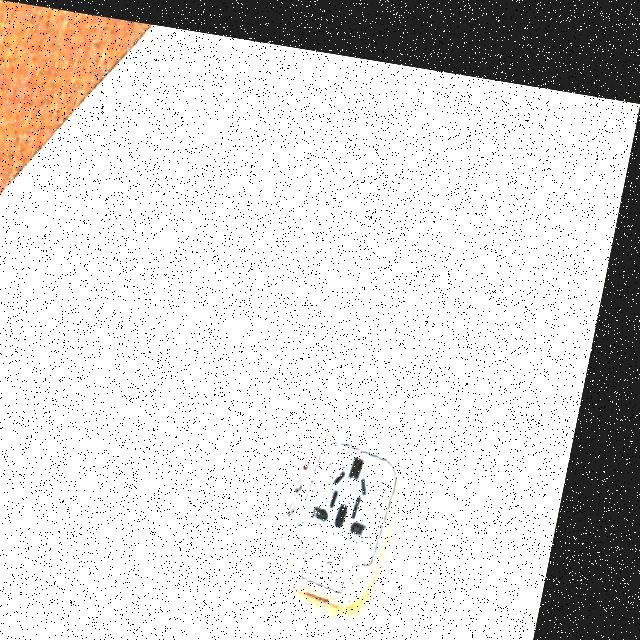adapter: (290, 415, 424, 596)
